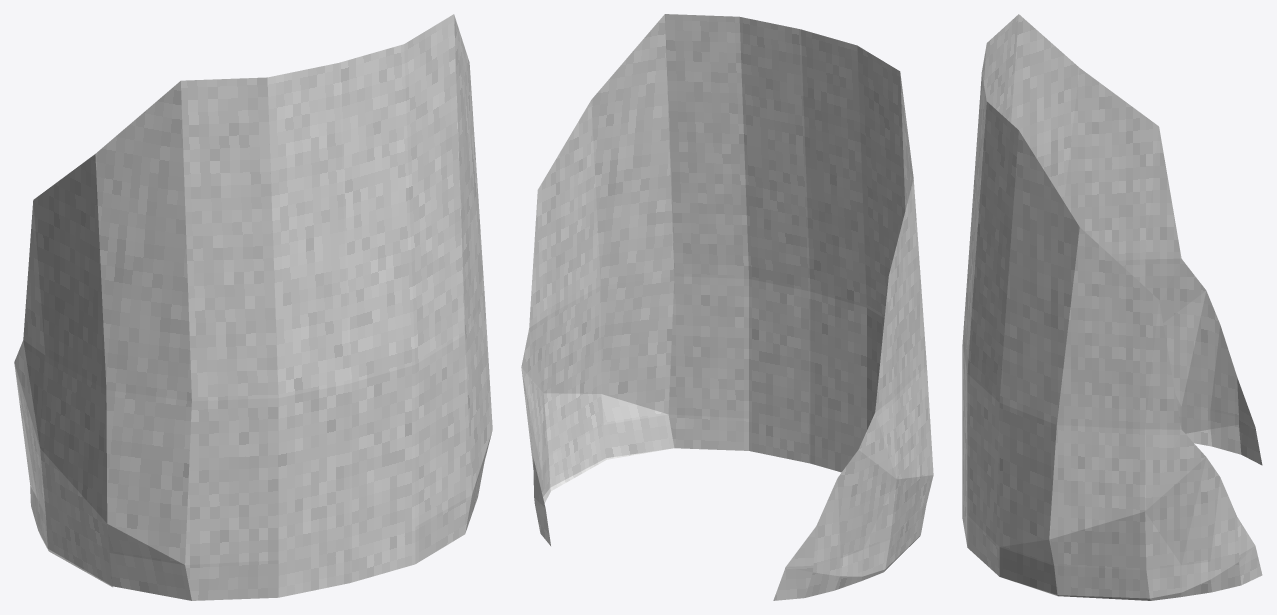
Rendered from cloak_medium_inside.obj.
3 views of the same model, side by side, from view 1: azimuth 30°, elevation 25°; view 2: azimuth 150°, elevation 25°; view 3: azimuth 270°, elevation 25° (orthographic). The views are drawn at different scales.
Visible parts, largest first — view 1: InsideMesh_Plane; view 2: InsideMesh_Plane; view 3: InsideMesh_Plane.
Part boxes in pixels (x1,y1,x2,y2): InsideMesh_Plane: (14, 14, 492, 600); InsideMesh_Plane: (521, 14, 933, 600); InsideMesh_Plane: (962, 14, 1262, 600).
Size of the model in its own units: 2.85 by 3.42 by 2.07.
